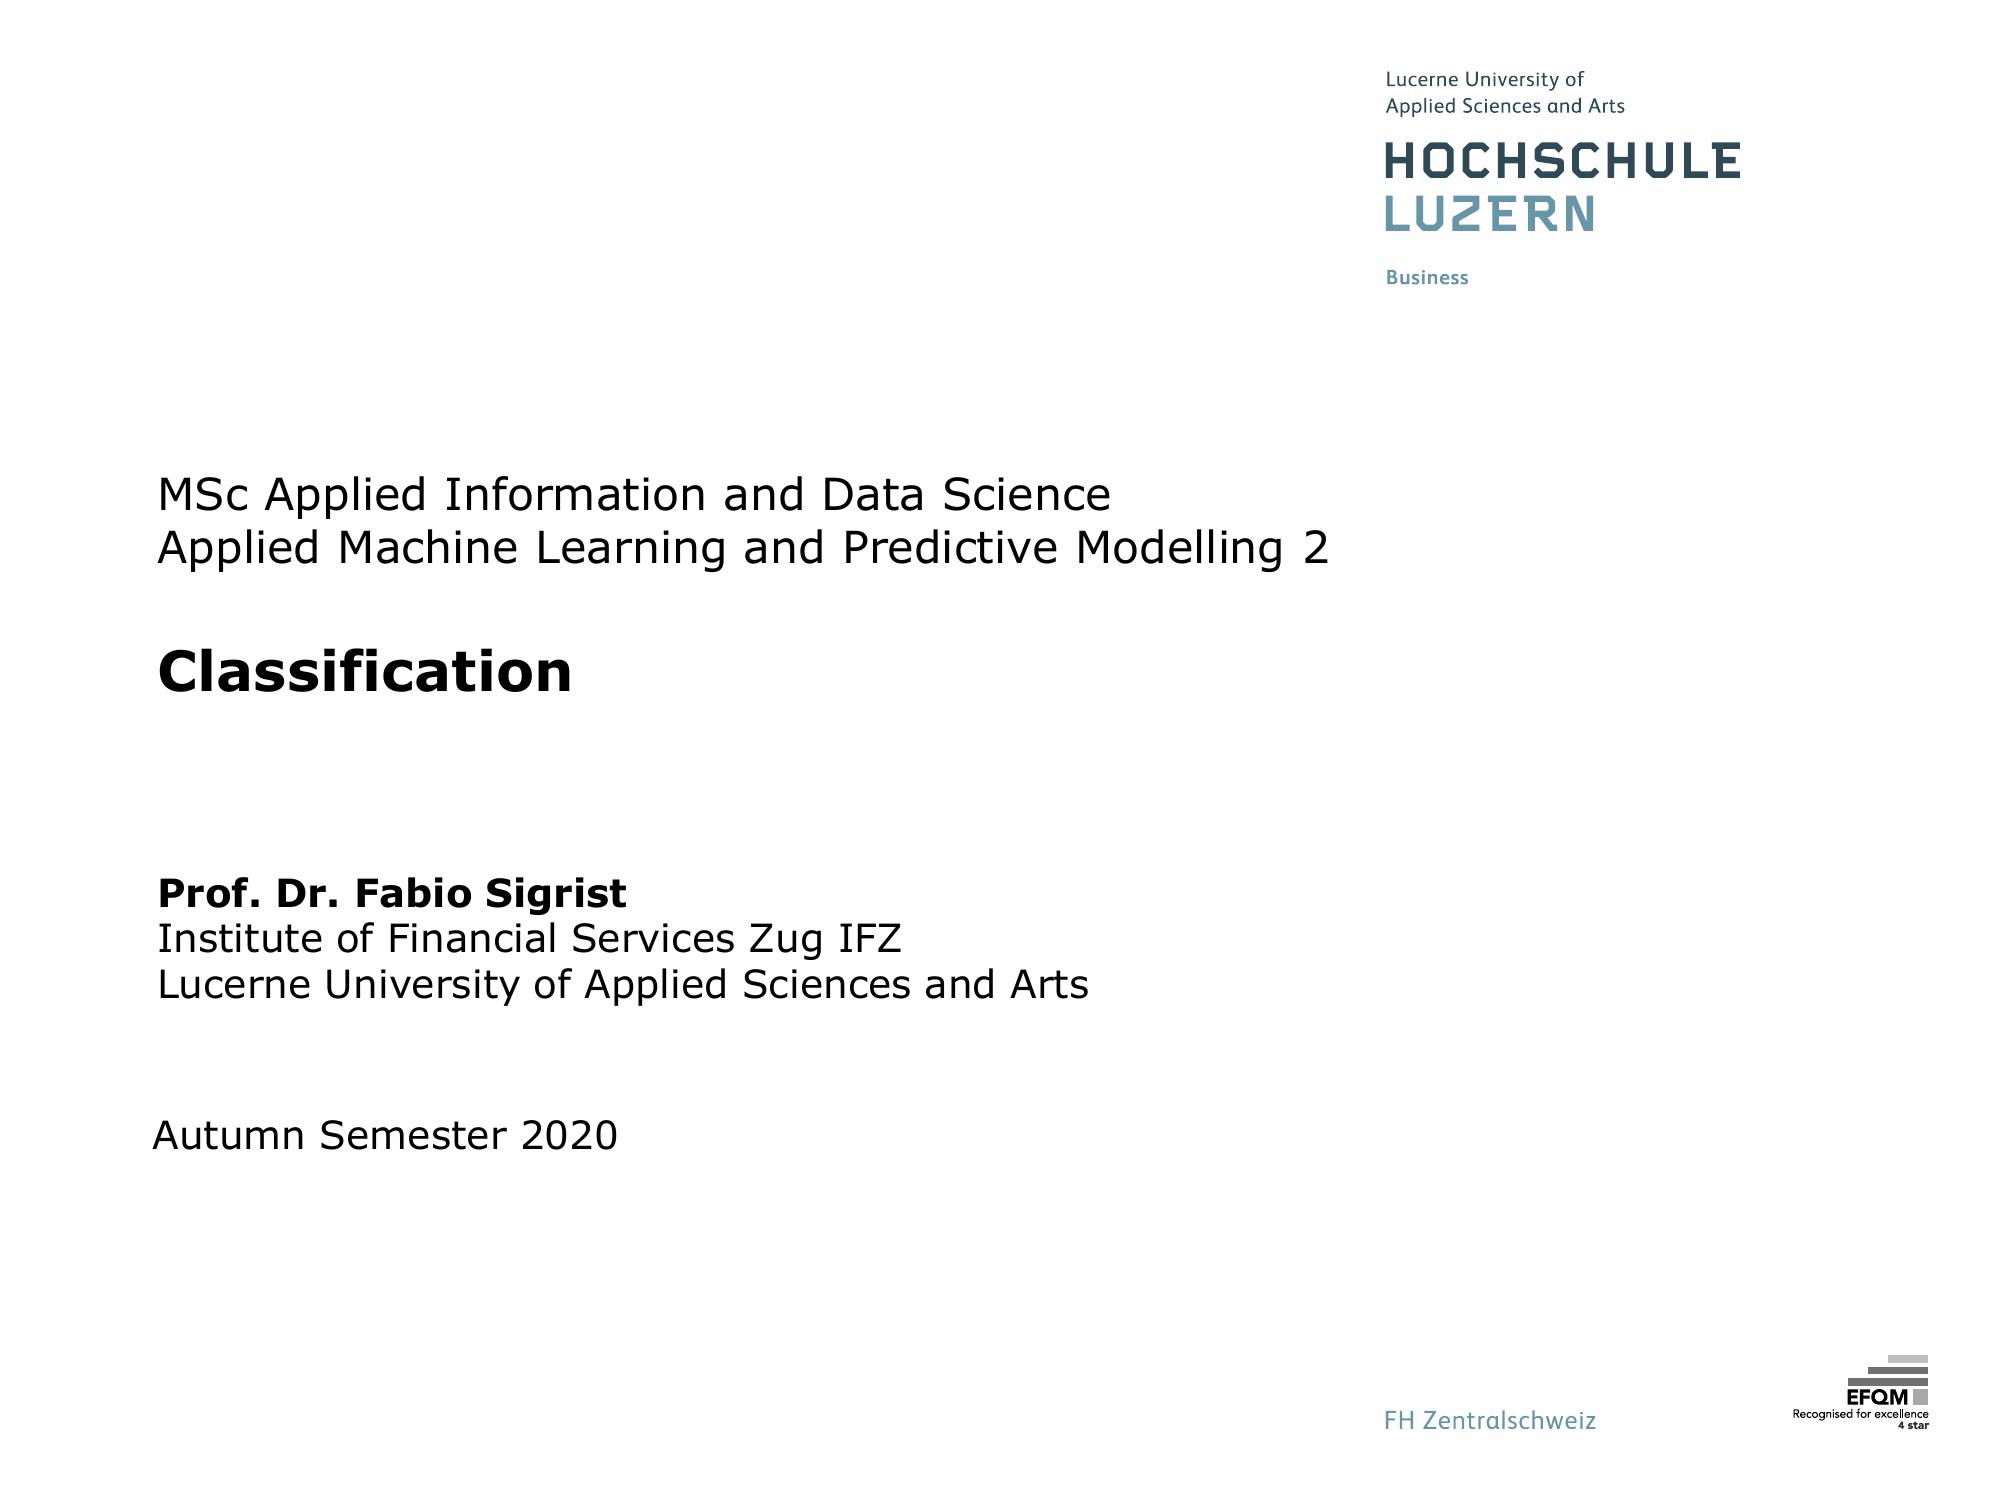Title: (143, 624, 580, 711)
